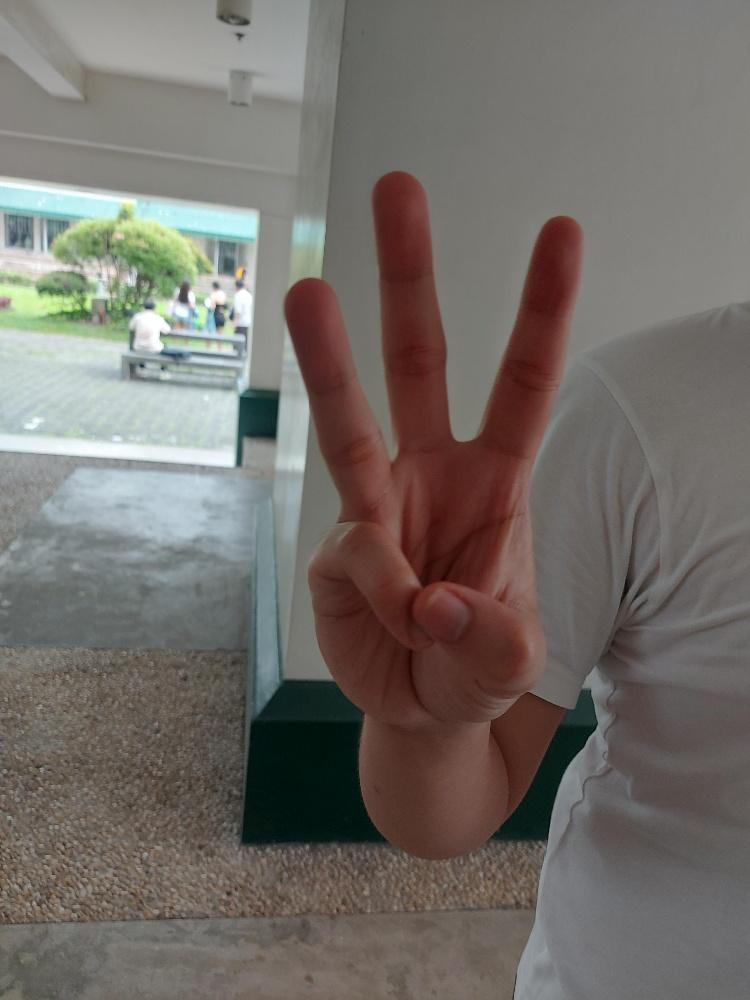w: (280, 165, 589, 730)
